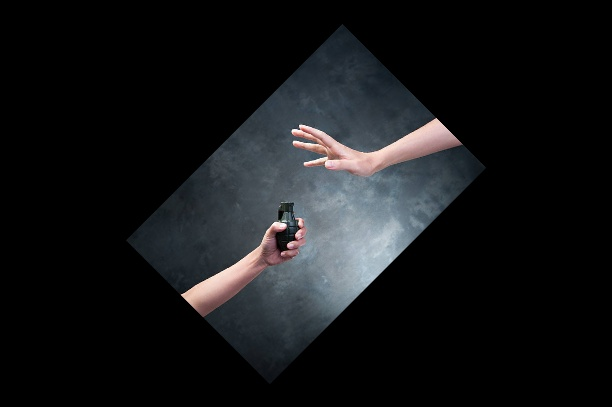e1: (276, 199, 301, 260)
